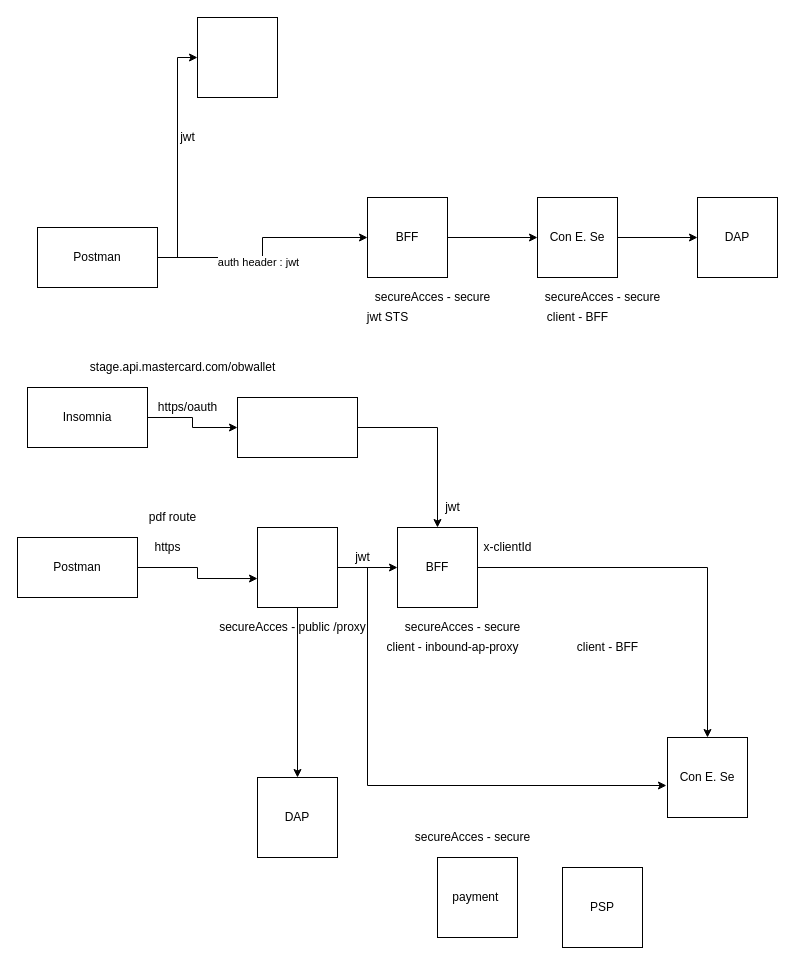
Image size: 795x965. Some labels were removed from this diagram. Each missing label, with the centre of its shape:
"APIGW" belongs at (x=297, y=427).
"obwallet-inboud-api-proxy" belongs at (x=297, y=567).
"STS/SPM" belongs at (x=237, y=57).
